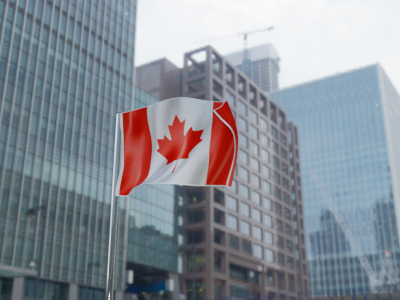Canada flag: (116, 98, 242, 197)
